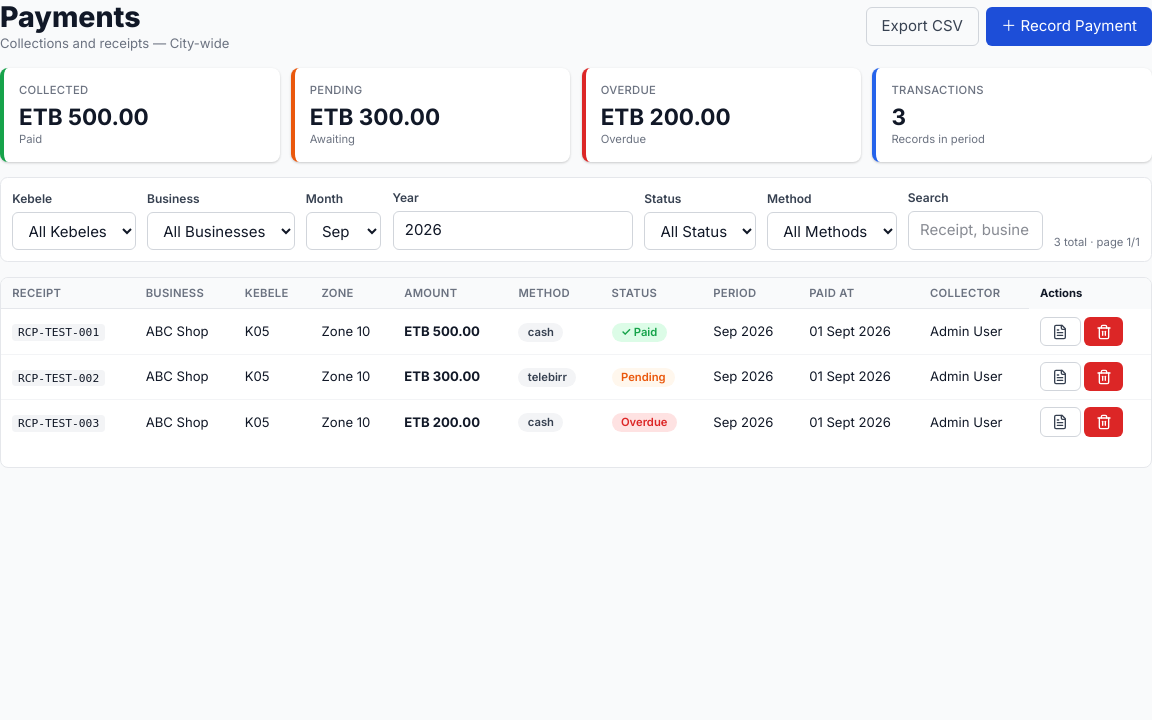
Scenario: Payments — receipt & print › 22. Receipt renders
Expected: the text "RCP-TEST-001" is shown, 12,324 -> 105,341
Click the button named "receipt rcp-test-001" at {"x": 1060, "y": 332}, box 1040,317 -> 1081,346
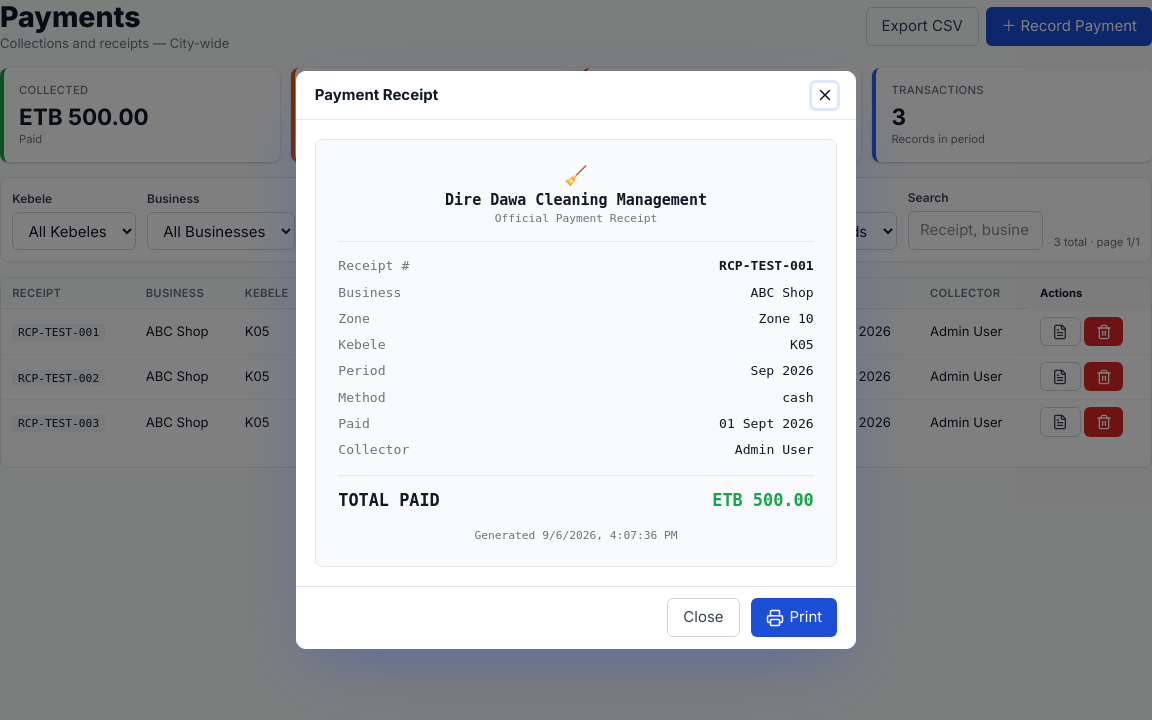
Expected: the text "RCP-TEST-001" is shown, 12,324 -> 105,341
Expected: the dialog "Receipt" is shown
